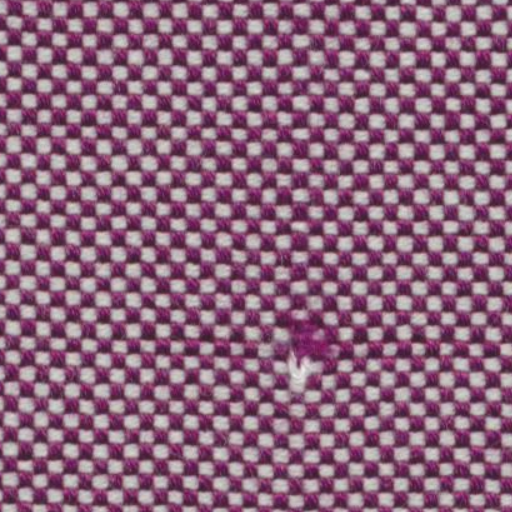MianQiu: (276, 298, 338, 410)
